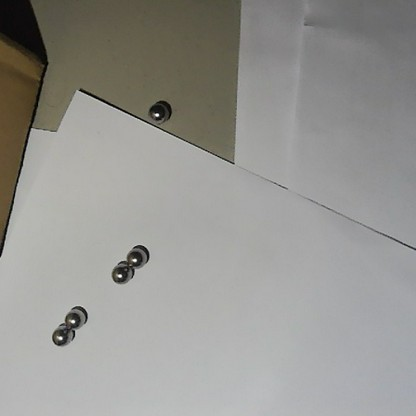ironball: (109, 262, 133, 284), (51, 323, 73, 346), (128, 246, 149, 267), (147, 100, 167, 122), (64, 308, 86, 328)
